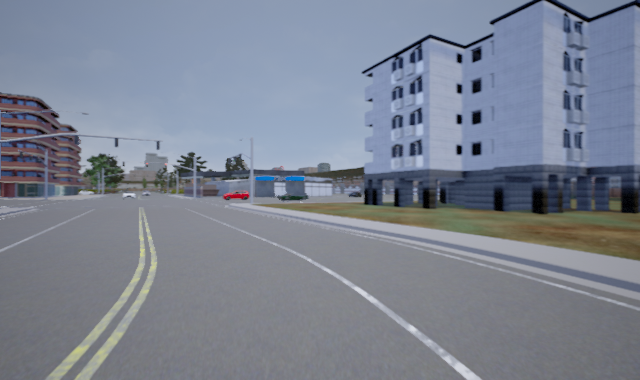vehicle: (222, 190, 249, 200)
